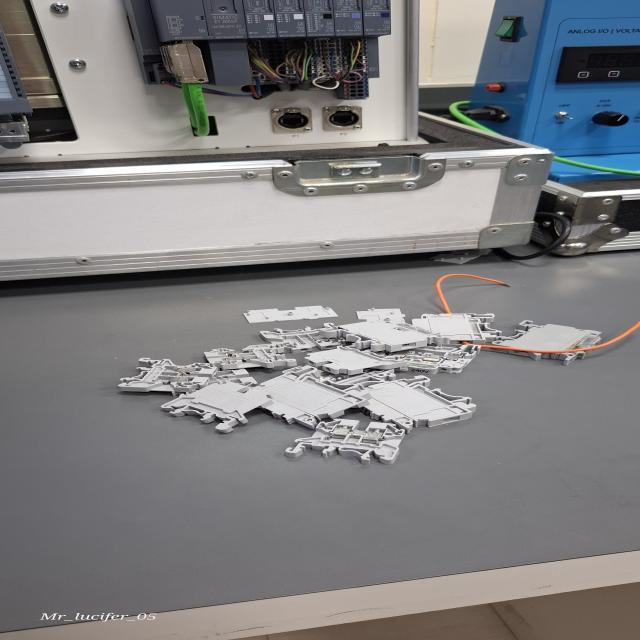Inverted: (158, 377, 280, 435), (298, 342, 418, 375)
Pass: (280, 410, 419, 466), (118, 352, 222, 393), (202, 341, 306, 371)
Reject: (258, 321, 350, 354)
